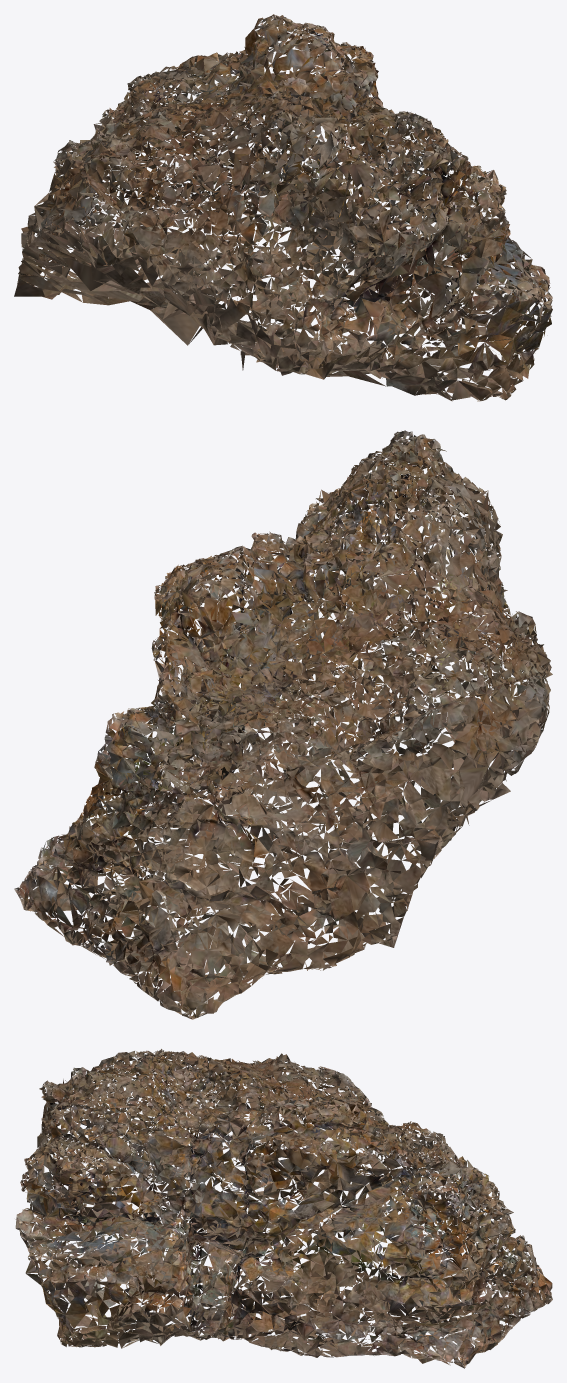
Rendered from boulder_01.glb.
The picture shows the model from 3 angles, top to bottom: view 1: azimuth 30°, elevation 25°; view 2: azimuth 150°, elevation 25°; view 3: azimuth 270°, elevation 25°; orthographic projection. The views are drawn at different scales.
Visible parts, largest first — view 1: boulder_01; view 2: boulder_01; view 3: boulder_01.
Part boxes in pixels (x1,y1,x2,y2): boulder_01: (14,14,552,401); boulder_01: (14,430,552,1019); boulder_01: (15,1049,552,1368).
Size of the model in its own units: 1.28 by 1.02 by 1.83.
1 material, 1 textured.
